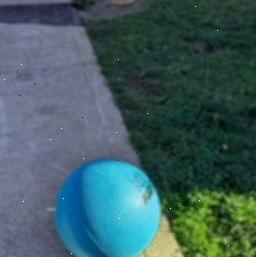algae: (57, 156, 160, 257)
